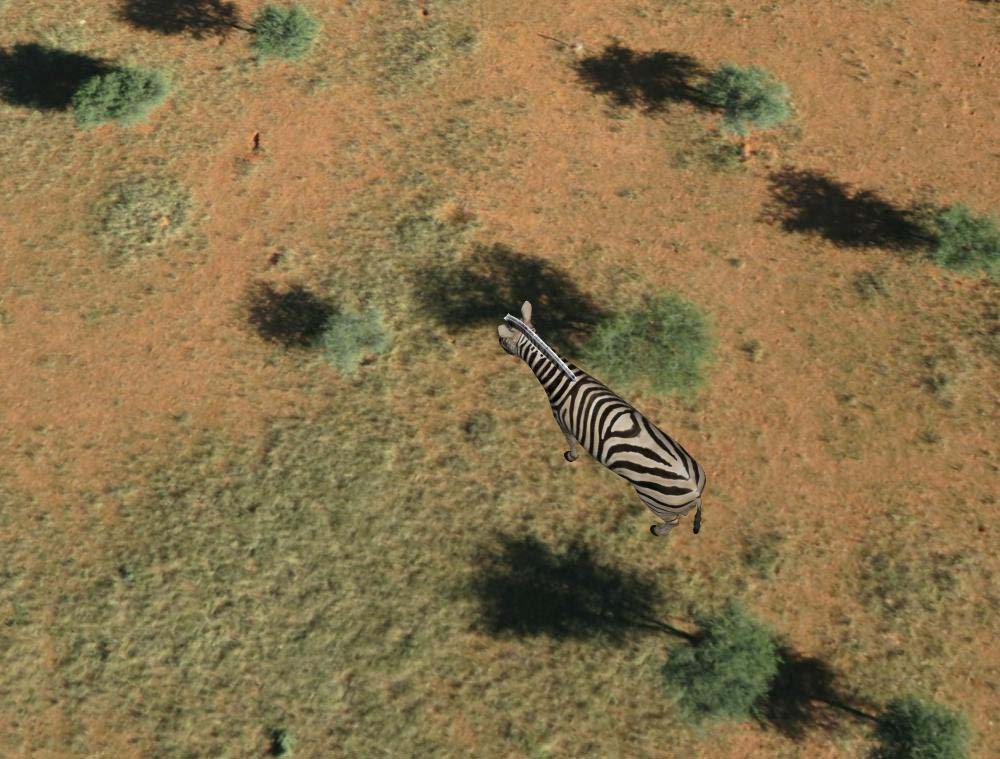zebra: (490, 296, 710, 540)
